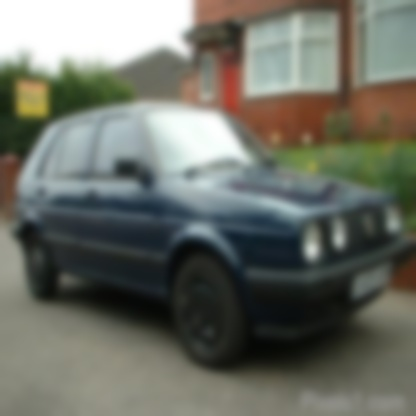Vehicle: (10, 102, 415, 372)
